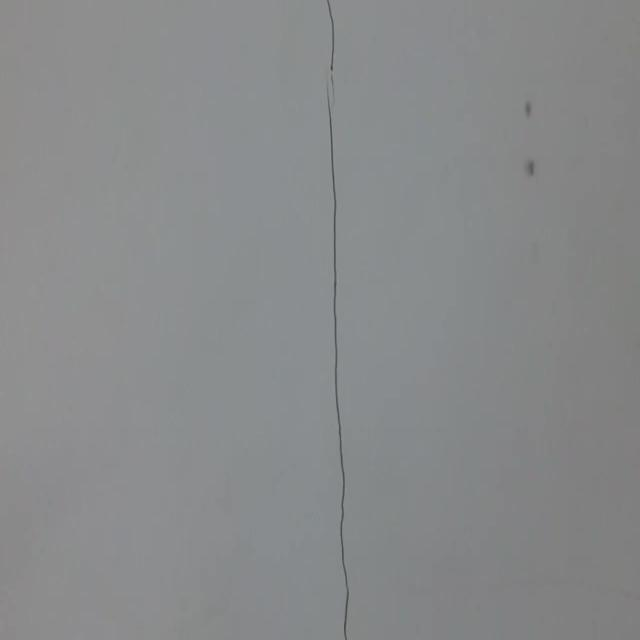Crack: (298, 0, 368, 640)
